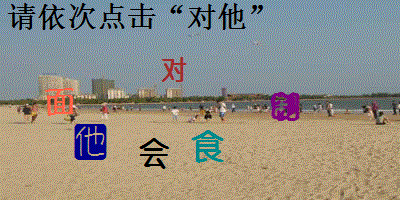result: (186, 2, 249, 31)
text: (74, 123, 108, 161), (191, 129, 226, 165), (269, 90, 303, 122), (138, 138, 170, 170), (42, 87, 75, 116), (159, 56, 189, 84)
